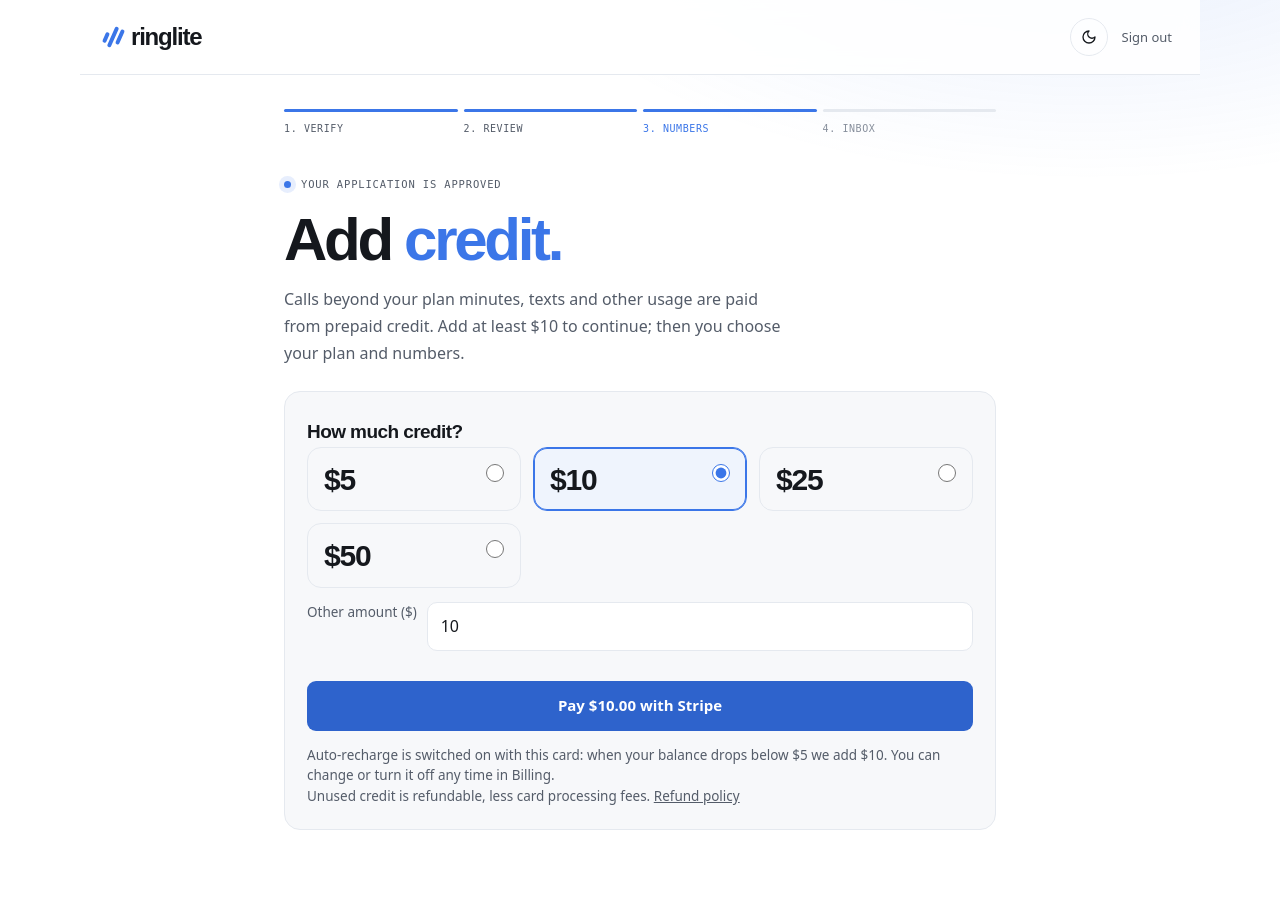
Test: AddCreditPage (signup funding step) › refuses less than $10
Replace the text in the field named "Other amount in dollars" with "5" at (700, 626), box [427,602,973,651]
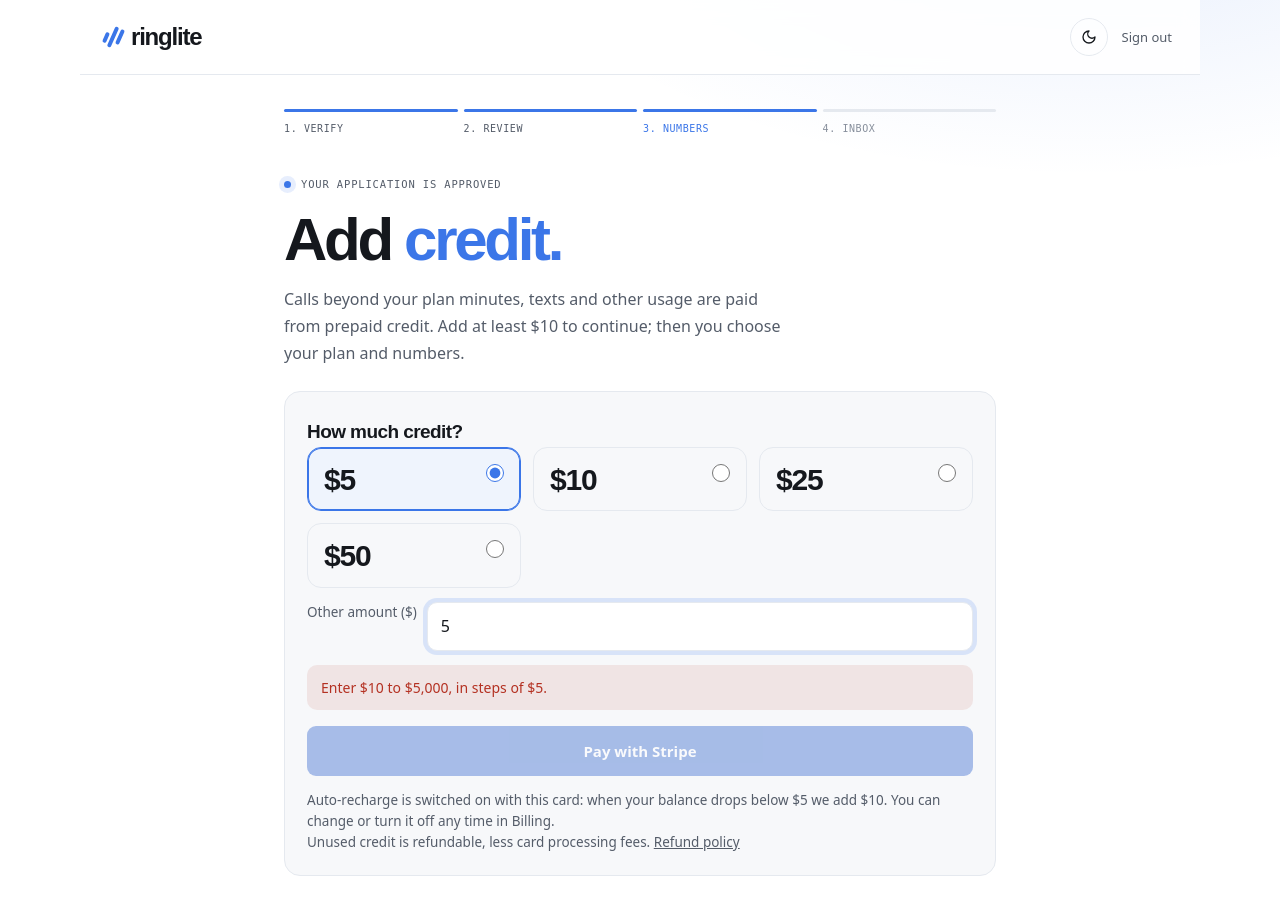
Expected: the button "Pay with Stripe" is disabled, [307,726,973,776]
Expected: the message shows "$10 to $5,000, in steps of $5", [307,664,973,710]
